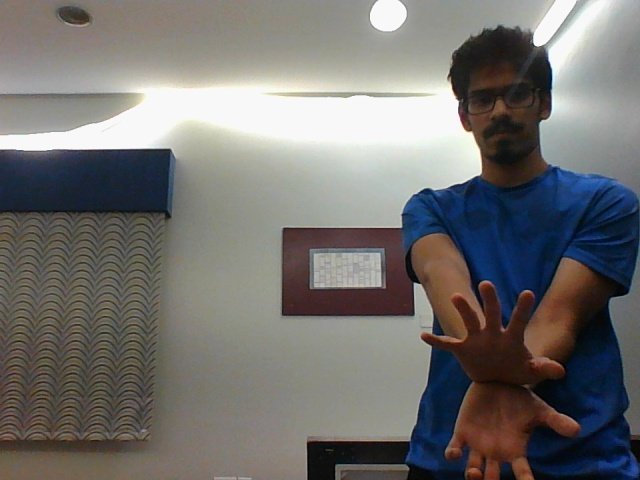blast: (413, 275, 578, 478)
